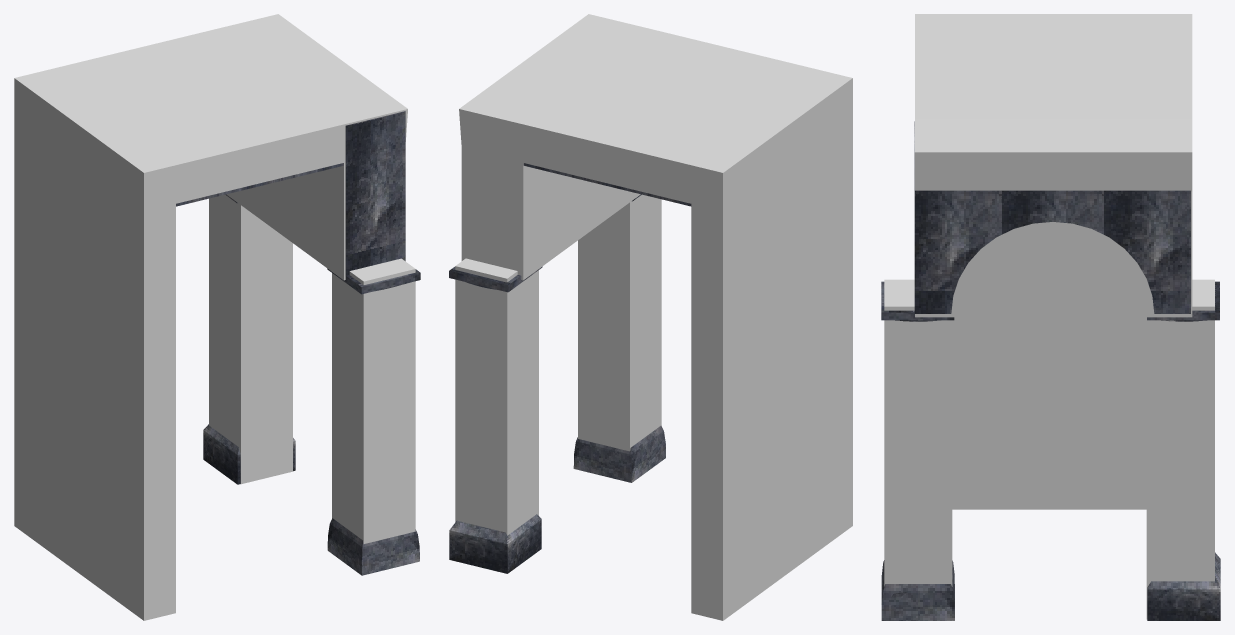
Rendered from Wall.gltf.
The picture shows the model from 3 angles, left to right: view 1: azimuth 30°, elevation 25°; view 2: azimuth 150°, elevation 25°; view 3: azimuth 270°, elevation 25°; orthographic projection. The views are drawn at different scales.
Visible parts, largest first — view 1: COL.001, COL, COL.002, 円, Pedestal, Pedestal.001, 立方体.001; view 2: COL.001, COL.002, COL, Pedestal.001, Pedestal, 立方体.001; view 3: COL.001, 円, COL, COL.002, Pedestal.001, Pedestal.
Part boxes in pixels (<box>): COL.001: <box>14,14,407,620</box>; COL: <box>332,258,415,543</box>; COL.002: <box>209,195,292,484</box>; 円: <box>345,111,405,276</box>; Pedestal: <box>327,268,420,575</box>; Pedestal.001: <box>203,194,295,484</box>; 立方体.001: <box>176,163,343,206</box>; COL.001: <box>459,14,852,620</box>; COL.002: <box>455,258,538,535</box>; COL: <box>578,194,661,451</box>; Pedestal.001: <box>449,266,542,573</box>; Pedestal: <box>573,194,665,482</box>; 立方体.001: <box>523,163,691,206</box>; COL.001: <box>915,14,1192,509</box>; 円: <box>914,121,1190,313</box>; COL: <box>884,279,952,586</box>; COL.002: <box>1146,279,1214,619</box>; Pedestal.001: <box>1147,281,1220,620</box>; Pedestal: <box>881,281,954,620</box>.
Size of the model in its own units: 18.43 by 29.87 by 19.18.
1 material, 1 textured.
